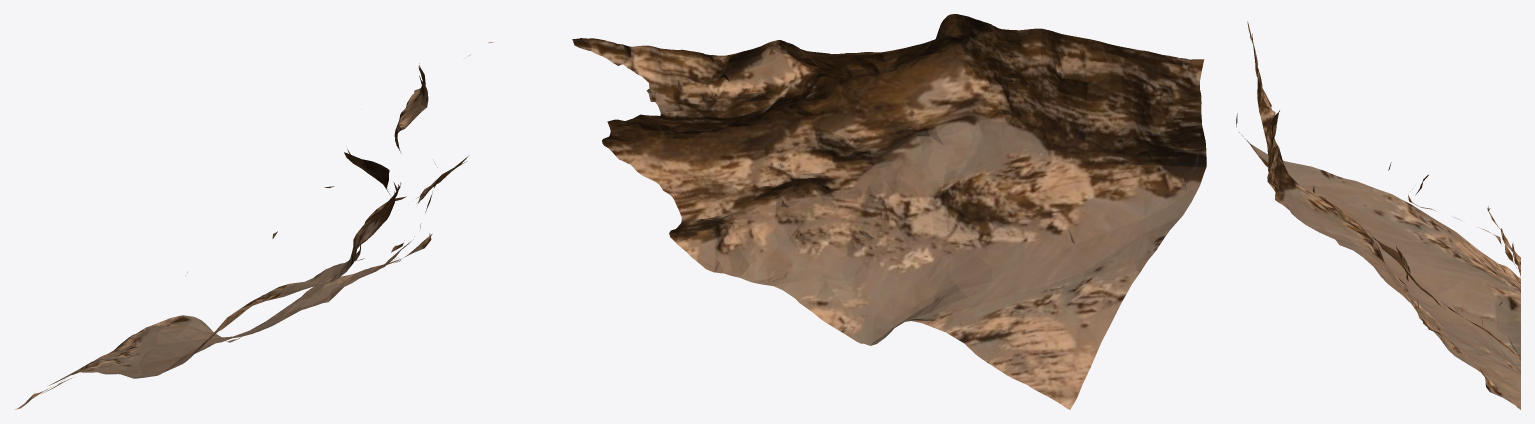
3 renders of one model, left to right at view 1: azimuth 30°, elevation 25°; view 2: azimuth 150°, elevation 25°; view 3: azimuth 270°, elevation 25°, orthographic. The views are drawn at different scales.
Size of the model in its own units: 1.62 by 0.7857 by 0.7698.
1 material, 1 textured.
